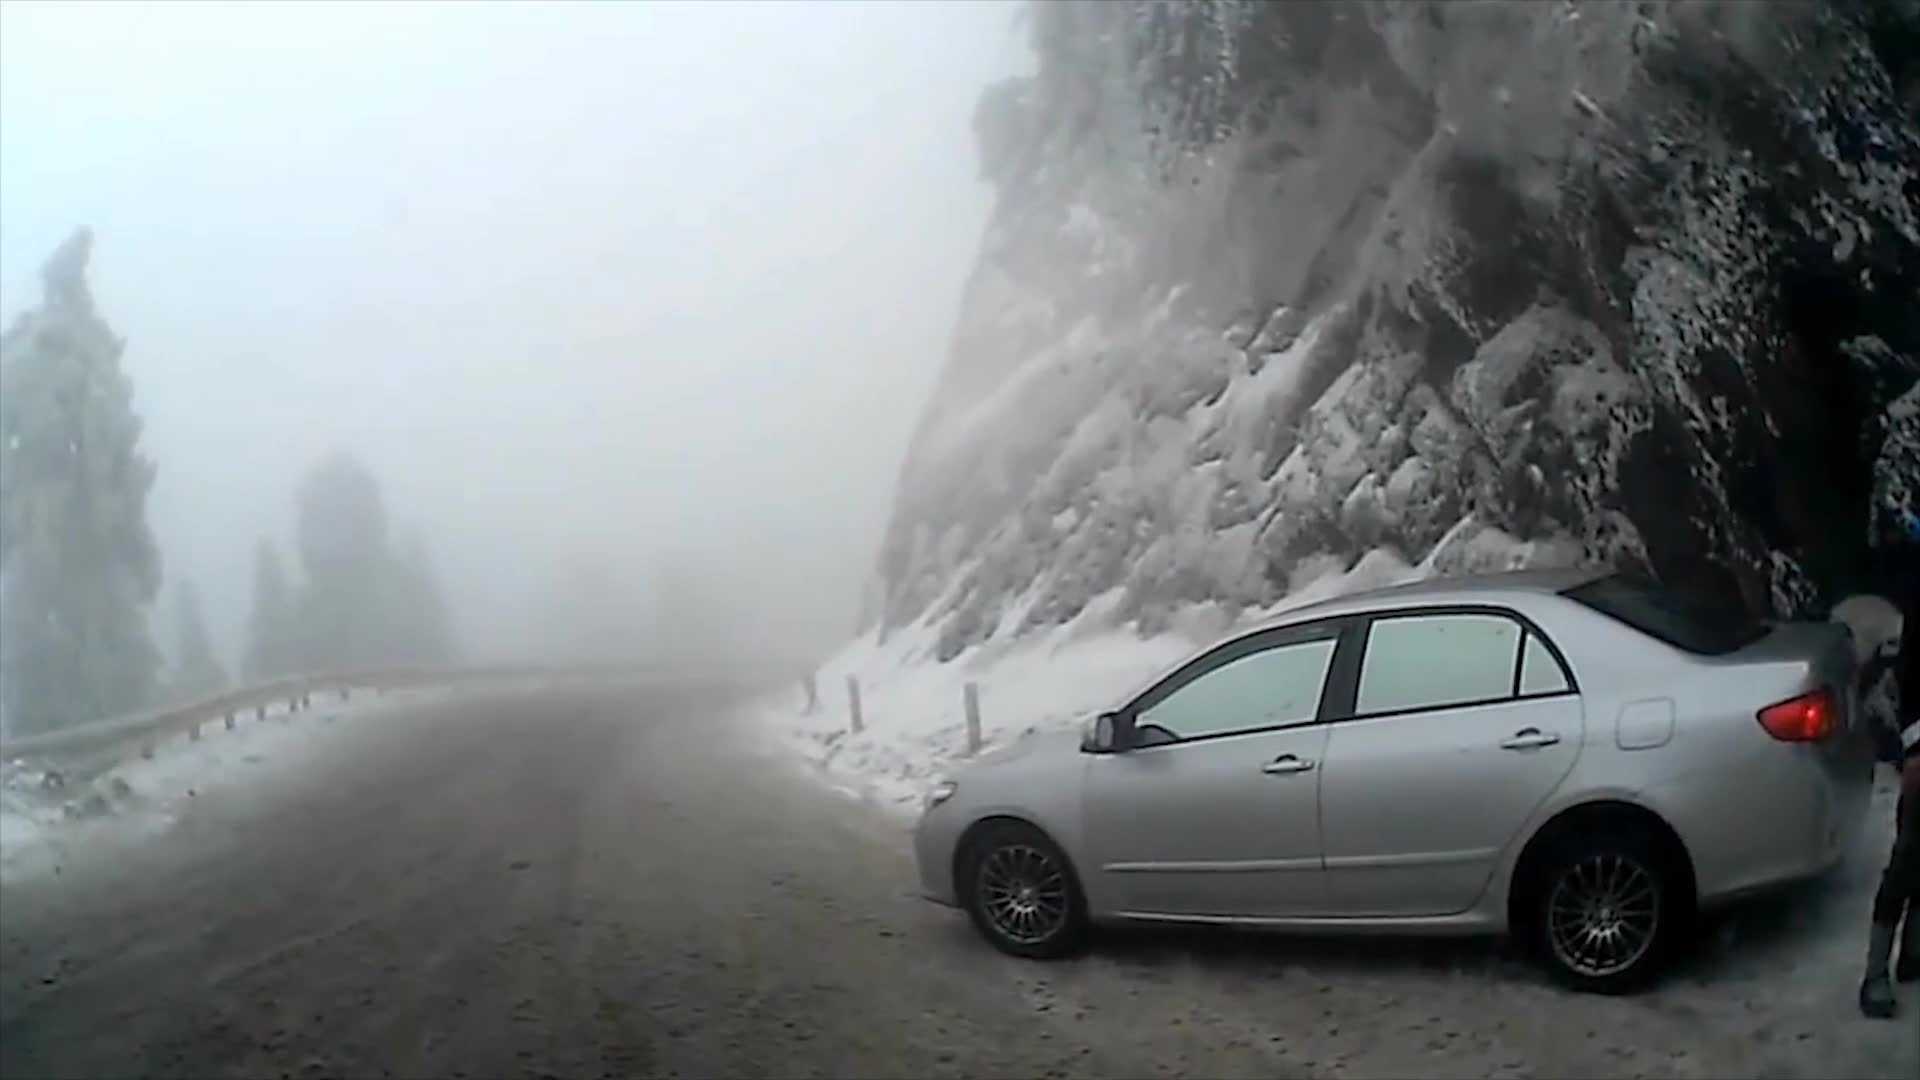pedestrian: (1850, 474, 1920, 1023)
vehicle: (912, 565, 1869, 995)
